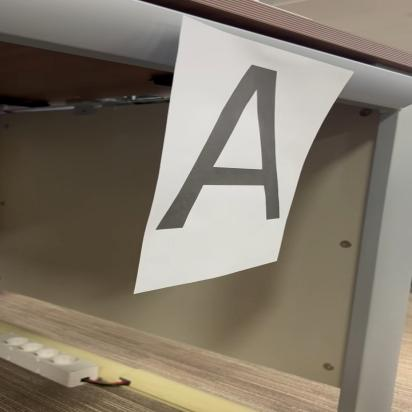seat: (158, 52, 303, 228)
